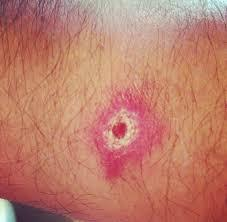Spider: (74, 81, 175, 182)
